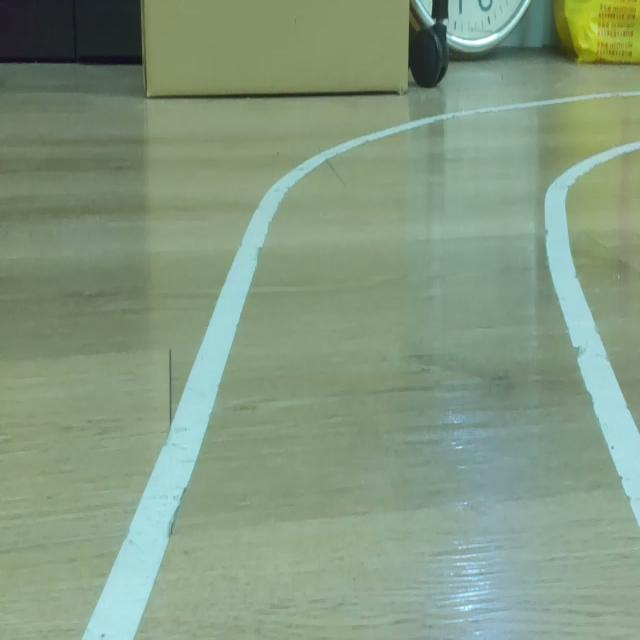road: (134, 95, 640, 639)
